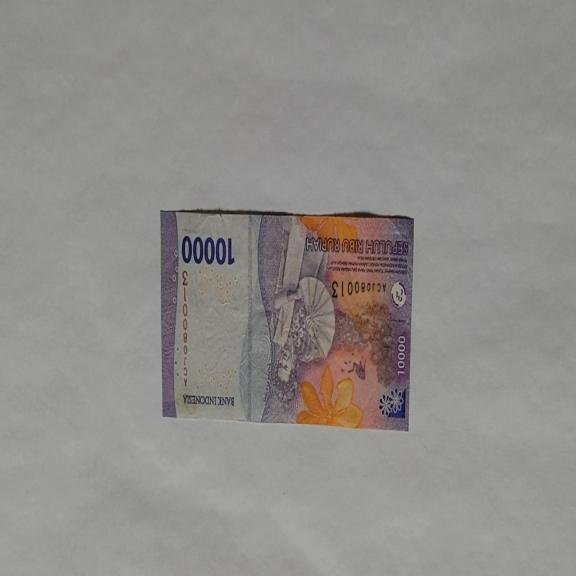Kertas: (160, 208, 414, 430), (180, 233, 235, 267)
